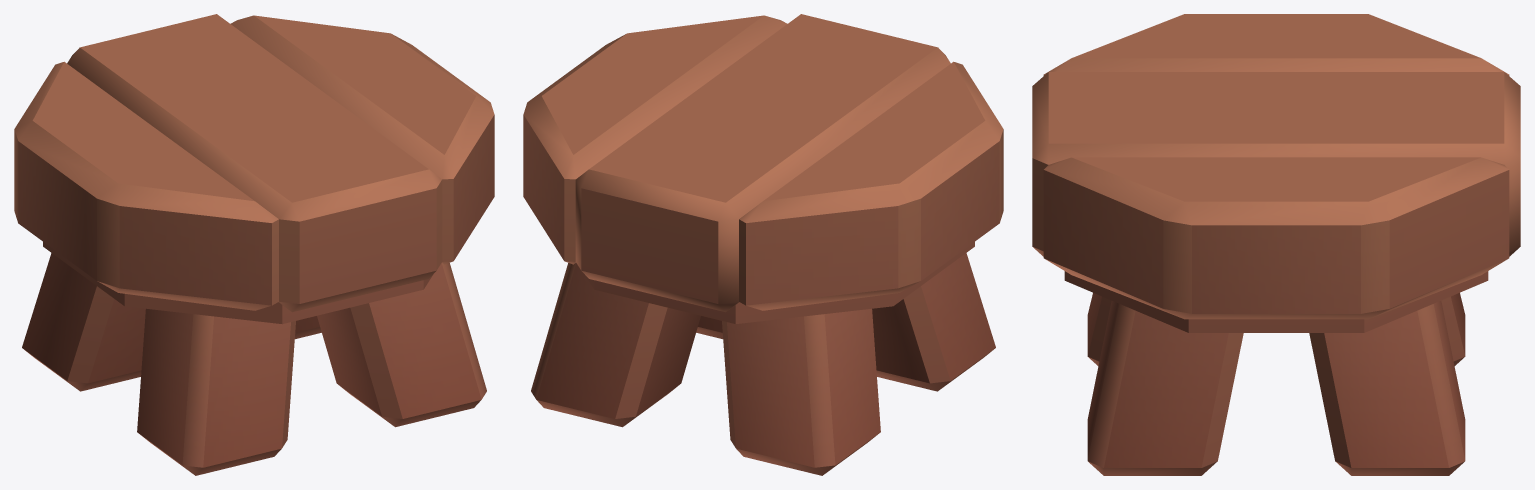
Rendered from stool_round.glb.
The picture shows the model from 3 angles, left to right: view 1: azimuth 30°, elevation 25°; view 2: azimuth 150°, elevation 25°; view 3: azimuth 270°, elevation 25°; orthographic projection. The views are drawn at different scales.
Parts seen in each view (by area): view 1: stool_round; view 2: stool_round; view 3: stool_round.
Part boxes in pixels (x1=…): stool_round: x1=14, y1=14, x2=494, y2=475; stool_round: x1=523, y1=14, x2=1003, y2=475; stool_round: x1=1032, y1=14, x2=1520, y2=475.
Size of the model in its own units: 0.75 by 0.5 by 0.75.
1 material, 1 textured.
